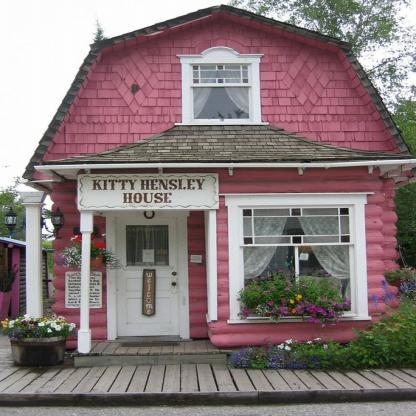Building Outline: (18, 3, 416, 345)
Deco: (77, 174, 219, 210), (65, 271, 102, 309), (142, 269, 156, 317)
Dont: (230, 266, 416, 371), (233, 269, 351, 327), (0, 313, 77, 367), (18, 190, 66, 236)
Facade: (103, 49, 340, 345)
Floor: (53, 173, 393, 345)
Floor Slab: (53, 165, 393, 172)
Pillar: (77, 212, 94, 353)
Roof: (21, 3, 412, 180), (42, 125, 415, 165)
Top Floor: (53, 18, 394, 165)
Window: (219, 193, 375, 324), (242, 209, 355, 318), (190, 64, 251, 119)
Window Outline: (115, 216, 179, 337), (174, 46, 269, 125)
